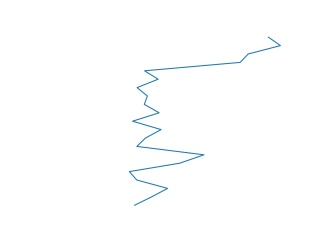crevasseRiverChannelBar: (121, 31, 285, 210)
